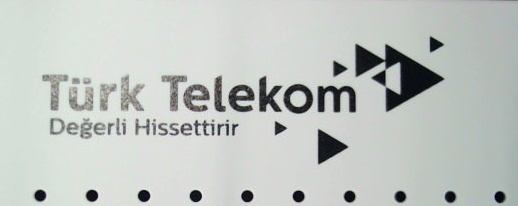AQ_TURKTelekom: (38, 33, 445, 167)
